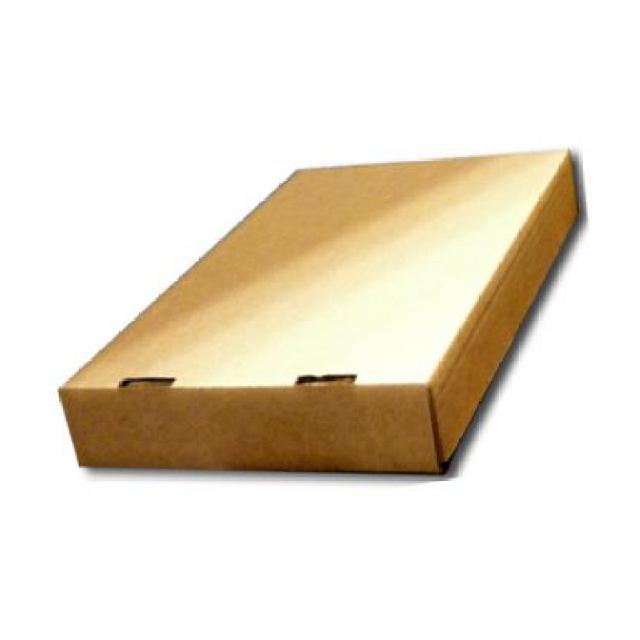cardboxes: (59, 151, 586, 471)
